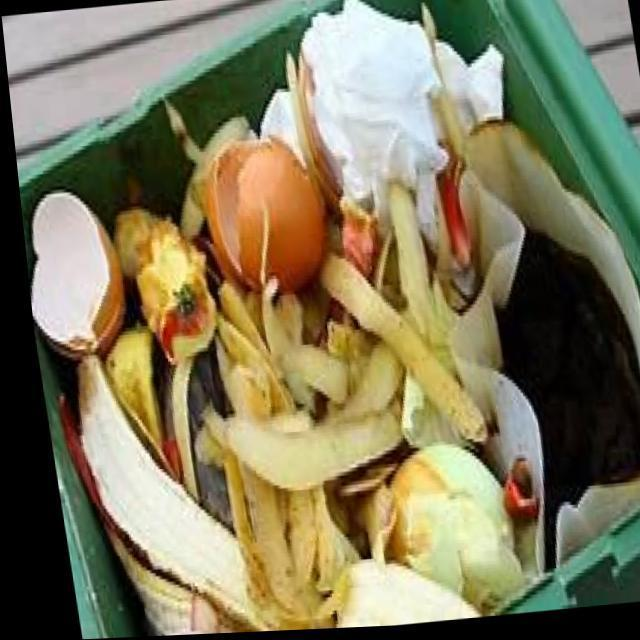Garbage: (14, 0, 640, 637)
